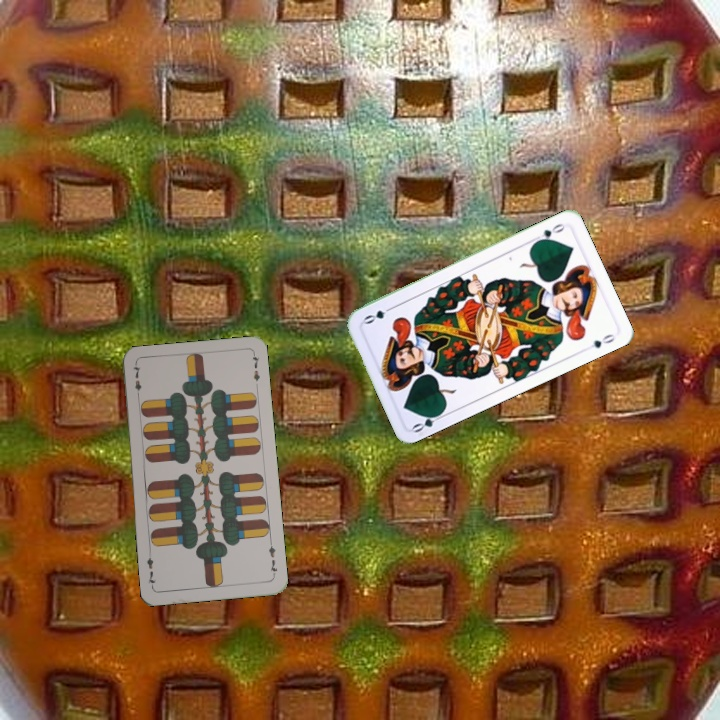E7: (265, 538, 280, 579), (130, 361, 144, 402)
GO: (408, 408, 448, 435), (531, 219, 568, 246)
